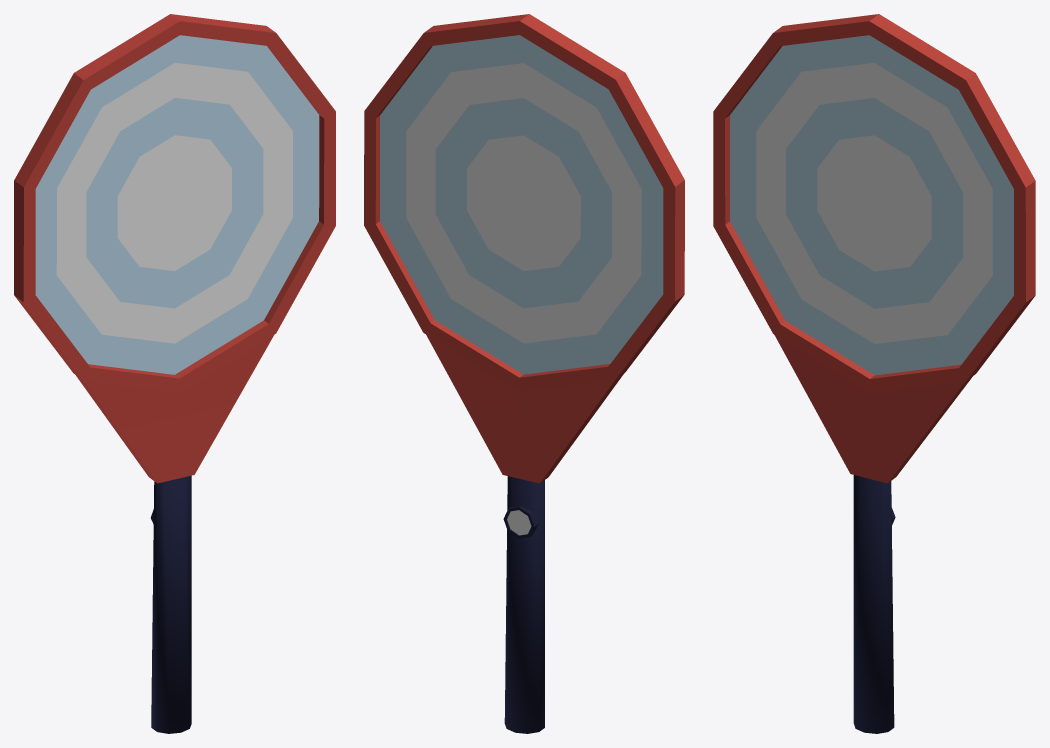
File: Raqueta.fbx
3 renders of one model, left to right at view 1: azimuth 30°, elevation 25°; view 2: azimuth 150°, elevation 25°; view 3: azimuth 330°, elevation 25°, orthographic.
Parts seen in each view (by area): view 1: Circle; view 2: Circle; view 3: Circle.
Part boxes in pixels (bbox=[...]): Circle: bbox=[14, 14, 335, 733]; Circle: bbox=[364, 14, 684, 733]; Circle: bbox=[713, 14, 1035, 733].
Size of the model in its own units: 555 by 1204 by 59.37.
